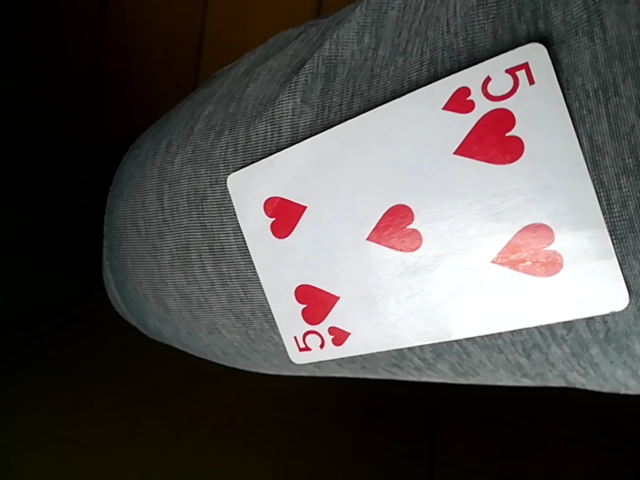hx 5: (222, 41, 629, 369)
